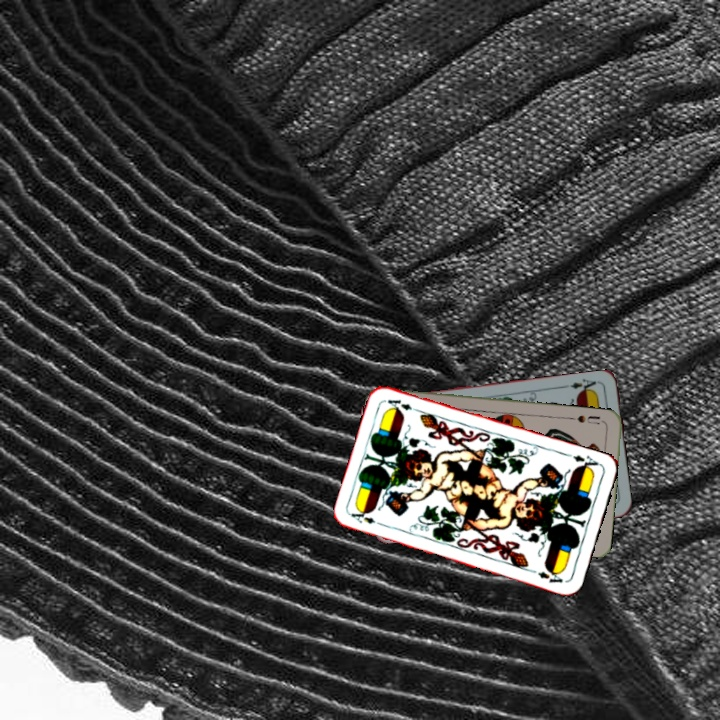EA: (563, 449, 603, 474), (561, 375, 602, 396), (347, 506, 378, 526)
SU: (573, 411, 603, 427)
